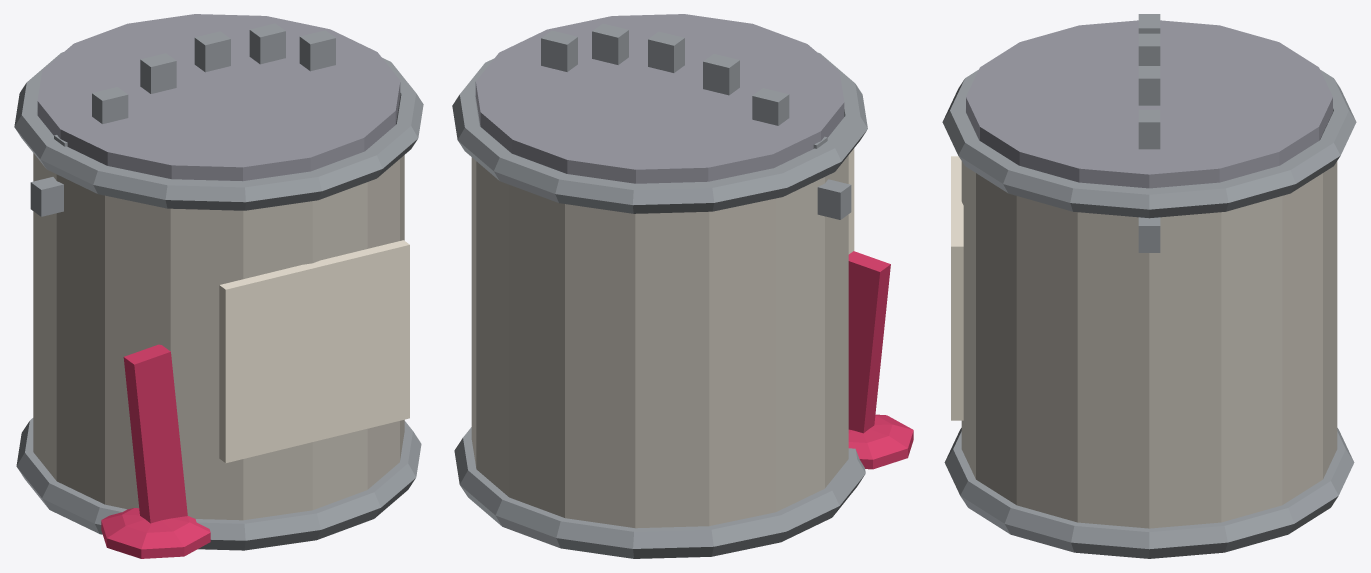
Rendered from can_paint.glb.
3 renders of one model, left to right at view 1: azimuth 30°, elevation 25°; view 2: azimuth 150°, elevation 25°; view 3: azimuth 270°, elevation 25°, orthographic.
Visible parts, largest first — view 1: can_paint; view 2: can_paint; view 3: can_paint.
Part boxes in pixels (<box>): can_paint: <box>14,14,423,558</box>; can_paint: <box>452,14,913,558</box>; can_paint: <box>942,14,1356,558</box>.
Bounding box in the file's own units: 0.1965 × 0.2245 × 0.194.
